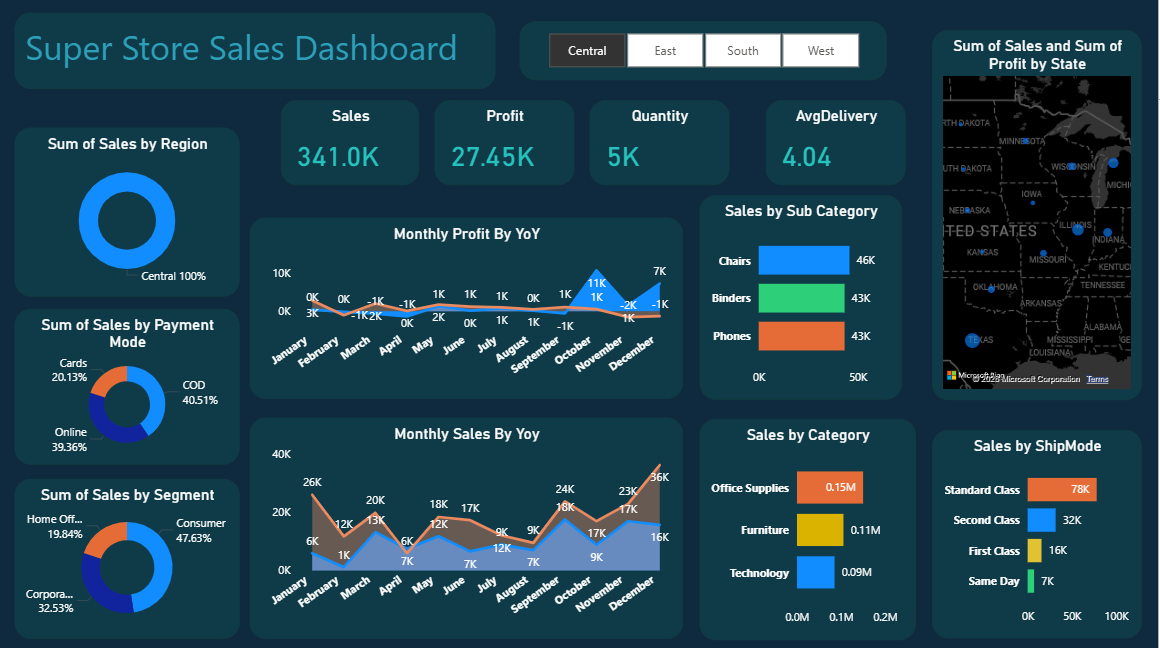

The dashboard page shown, as its layout file describes it:
{"tool":"powerbi","page":{"name":"Page 1","canvas":[1280,720],"ordinal":0},"visuals":[{"type":"clusteredBarChart","title":"Sales by Category","fields":{"Category":["SuperStore_Sales_Dataset.Category"],"Y":["Sum(SuperStore_Sales_Dataset.Sales)"]},"box":[776.7,465.2,237.4,242.9],"z":0},{"type":"clusteredBarChart","title":"Sales by Sub Category","fields":{"Category":["SuperStore_Sales_Dataset.Sub-Category"],"Y":["Sum(SuperStore_Sales_Dataset.Sales)"]},"box":[776.7,219.6,222.3,225],"z":1000},{"type":"clusteredBarChart","title":"Sales by ShipMode","fields":{"Category":["SuperStore_Sales_Dataset.Ship Mode"],"Y":["Sum(SuperStore_Sales_Dataset.Sales)"]},"box":[1031.9,477.5,230.5,229.2],"z":2000},{"type":"areaChart","title":"Monthly Sales By Yoy","fields":{"Y":["Sum(SuperStore_Sales_Dataset.Sales)"],"Category":["SuperStore_Sales_Dataset.Order Date.Variation.Date Hierarchy.Month","SuperStore_Sales_Dataset.Order Date.Variation.Date Hierarchy.Day"],"Series":["SuperStore_Sales_Dataset.Order Date.Variation.Date Hierarchy.Year"]},"box":[282.7,463.8,476.2,242.9],"z":3000},{"type":"areaChart","title":"Monthly Profit By YoY","fields":{"Category":["SuperStore_Sales_Dataset.Order Date.Variation.Date Hierarchy.Month","SuperStore_Sales_Dataset.Order Date.Variation.Date Hierarchy.Day"],"Series":["SuperStore_Sales_Dataset.Order Date.Variation.Date Hierarchy.Year"],"Y":["Sum(SuperStore_Sales_Dataset.Profit)"]},"box":[282.7,244.3,476.2,199],"z":4000},{"type":"map","fields":{"Category":["SuperStore_Sales_Dataset.State"],"Size":["Sum(SuperStore_Sales_Dataset.Sales)"]},"box":[1031.9,38.4,230.5,406.2],"z":5000},{"type":"donutChart","fields":{"Y":["Sum(SuperStore_Sales_Dataset.Sales)"],"Category":["SuperStore_Sales_Dataset.Segment"]},"box":[24.7,531,247,175.6],"z":6000},{"type":"donutChart","fields":{"Y":["Sum(SuperStore_Sales_Dataset.Sales)"],"Category":["SuperStore_Sales_Dataset.Payment Mode"]},"box":[24.7,344.4,247,171.5],"z":7000},{"type":"slicer","fields":{"Values":["SuperStore_Sales_Dataset.Region"]},"box":[579.1,28.8,403.4,64.5],"z":8000},{"type":"textbox","box":[24.7,19.2,528.3,83.7],"z":8001},{"type":"cardVisual","title":"Sales","fields":{"Data":["Sum(SuperStore_Sales_Dataset.Sales)"]},"box":[317,115.3,152.3,93.3],"z":8002},{"type":"cardVisual","title":"Profit","fields":{"Data":["Sum(SuperStore_Sales_Dataset.Profit)"]},"box":[485.8,115.3,153.7,93.3],"z":8003},{"type":"cardVisual","title":"Quantity","fields":{"Data":["Sum(SuperStore_Sales_Dataset.Quantity)"]},"box":[655.9,115.3,153.7,93.3],"z":8004},{"type":"cardVisual","title":"AvgDelivery","fields":{"Data":["Avg(SuperStore_Sales_Dataset.AvgDelivery)"]},"box":[849.4,115.3,153.7,93.3],"z":8005},{"type":"donutChart","fields":{"Y":["Sum(SuperStore_Sales_Dataset.Sales)"],"Category":["SuperStore_Sales_Dataset.Region"]},"box":[24.7,145.5,247,185.2],"z":8006}]}

Visuals, with their boxes in screenshot pixels (x1, y1, x2, y2), scaled from the page's 1280x720 canvas onto the 1160x648 screenshot:
"Sales by Category" clusteredBarChart: Rect(704, 419, 919, 637)
"Sales by Sub Category" clusteredBarChart: Rect(704, 198, 905, 400)
"Sales by ShipMode" clusteredBarChart: Rect(935, 430, 1144, 636)
"Monthly Sales By Yoy" areaChart: Rect(256, 417, 688, 636)
"Monthly Profit By YoY" areaChart: Rect(256, 220, 688, 399)
map - SuperStore_Sales_Dataset.State x Sum(SuperStore_Sales_Dataset.Sales): Rect(935, 35, 1144, 400)
donutChart - Sum(SuperStore_Sales_Dataset.Sales) x SuperStore_Sales_Dataset.Segment: Rect(22, 478, 246, 636)
donutChart - Sum(SuperStore_Sales_Dataset.Sales) x SuperStore_Sales_Dataset.Payment Mode: Rect(22, 310, 246, 464)
slicer - SuperStore_Sales_Dataset.Region: Rect(525, 26, 890, 84)
textbox: Rect(22, 17, 501, 93)
"Sales" cardVisual: Rect(287, 104, 425, 188)
"Profit" cardVisual: Rect(440, 104, 580, 188)
"Quantity" cardVisual: Rect(594, 104, 734, 188)
"AvgDelivery" cardVisual: Rect(770, 104, 909, 188)
donutChart - Sum(SuperStore_Sales_Dataset.Sales) x SuperStore_Sales_Dataset.Region: Rect(22, 131, 246, 298)
